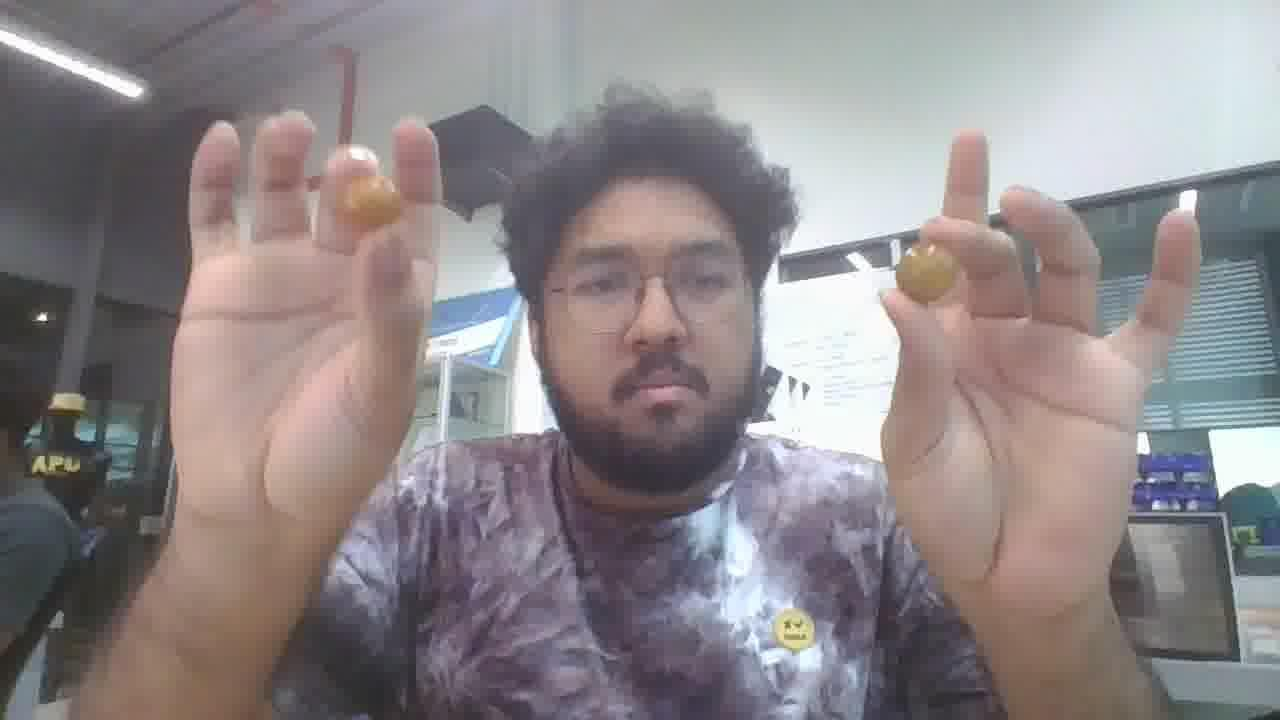yellow_cherry_tomato: (896, 245, 957, 302), (340, 175, 404, 229)
